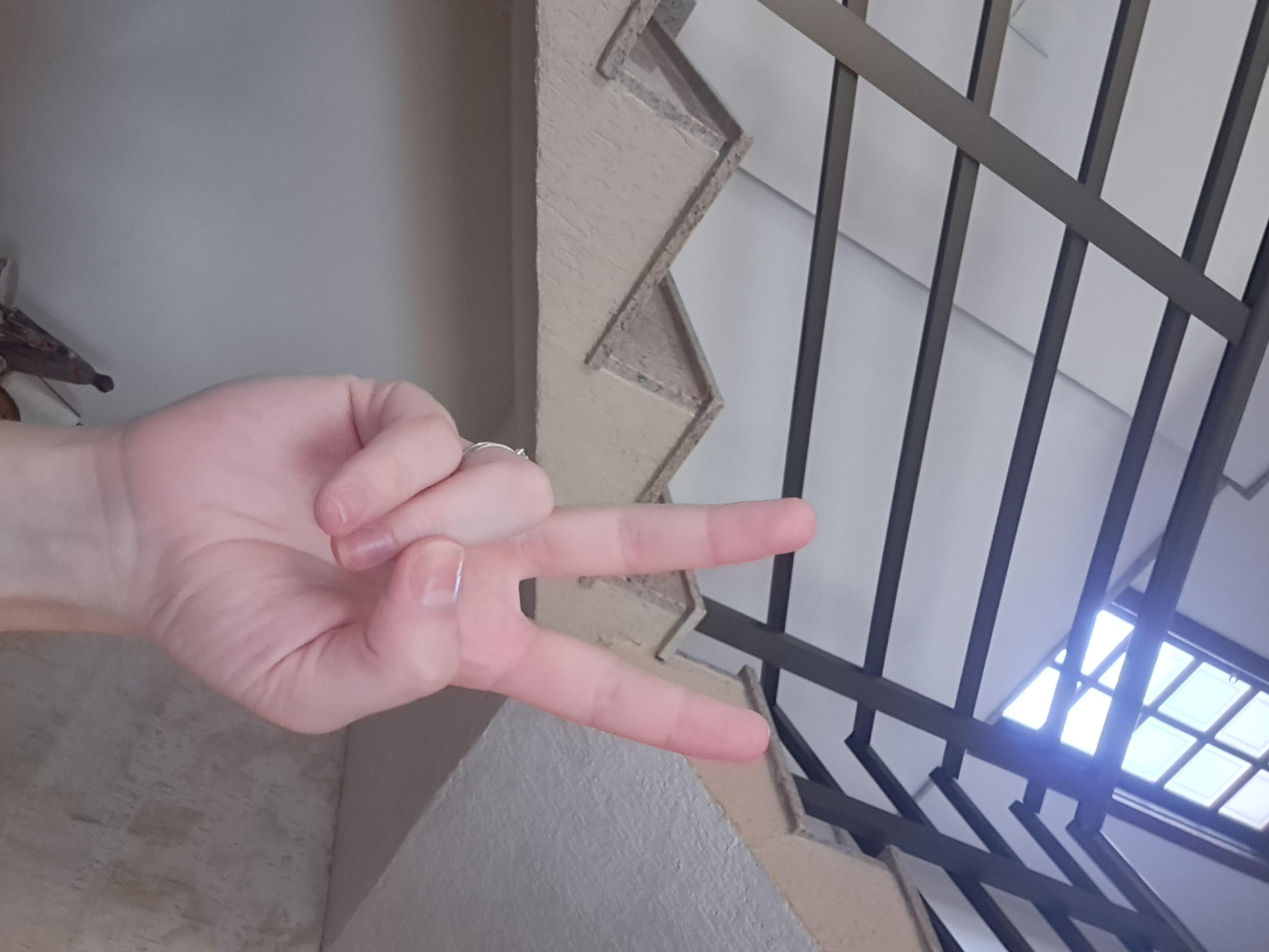V: (472, 330, 1047, 875)
